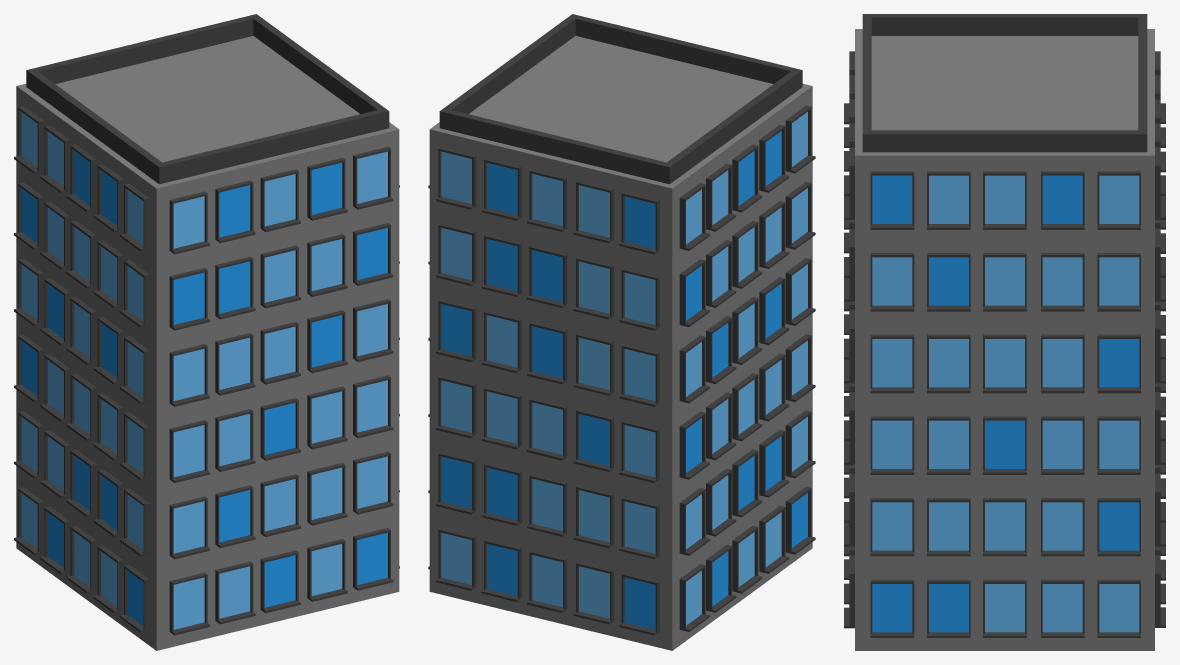
File: building_02_Top.fbx
The picture shows the model from 3 angles, left to right: view 1: azimuth 30°, elevation 25°; view 2: azimuth 150°, elevation 25°; view 3: azimuth 270°, elevation 25°; orthographic projection. The views are drawn at different scales.
Parts seen in each view (by area): view 1: building_02_Top; view 2: building_02_Top; view 3: building_02_Top.
Boxes of the visible parts, x1,y1,x2,y2 form: building_02_Top: [14, 14, 399, 650]; building_02_Top: [428, 14, 815, 650]; building_02_Top: [844, 14, 1165, 650].
Size of the model in its own units: 1072 by 1887 by 1072.
Materials: 1 (1 with a texture image).
